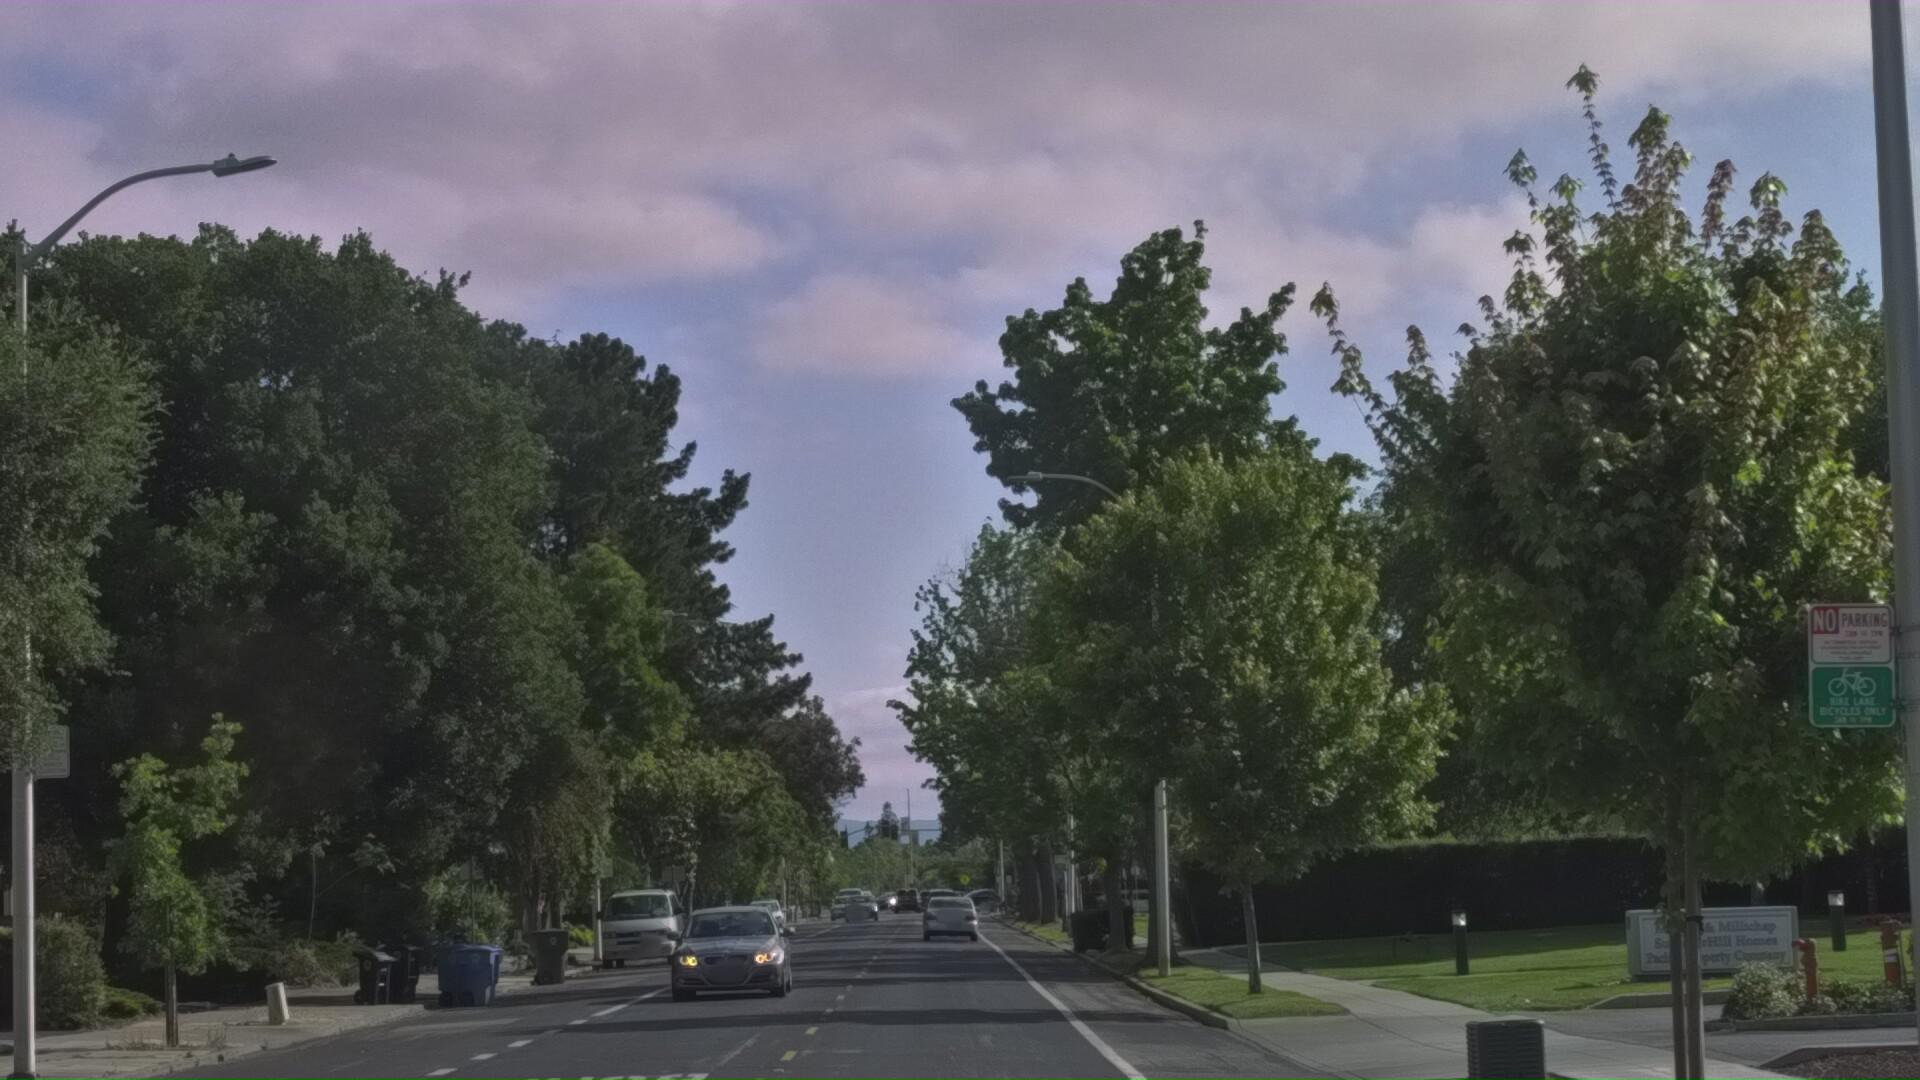car: (655, 1001, 789, 1080)
